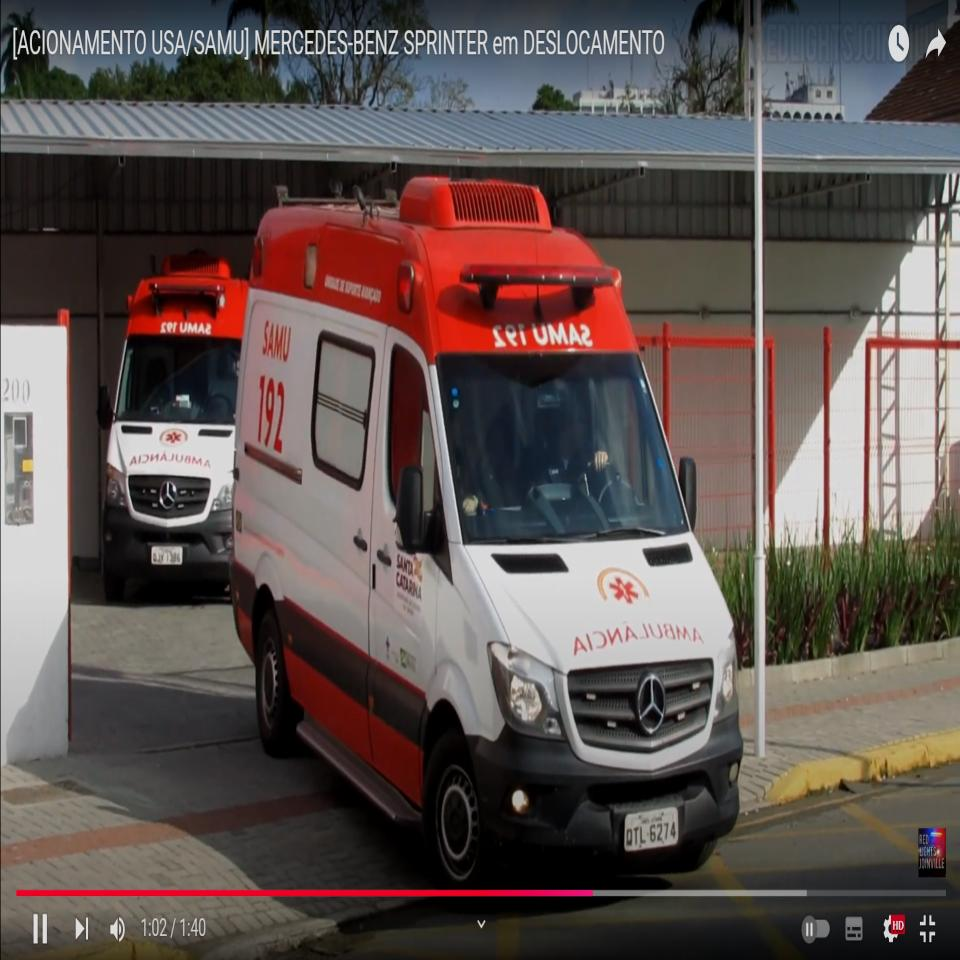ambulancia: (230, 172, 745, 897), (97, 252, 251, 603)
